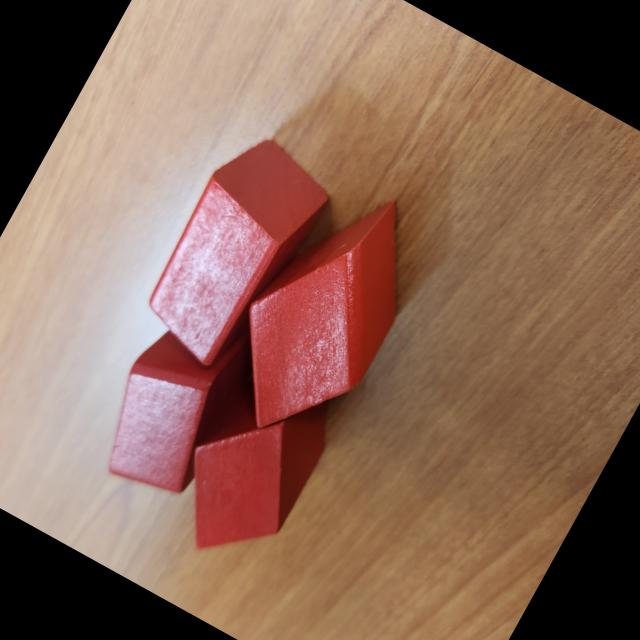red: (199, 164, 446, 461), (128, 123, 342, 383), (79, 293, 280, 519), (152, 355, 348, 583)
